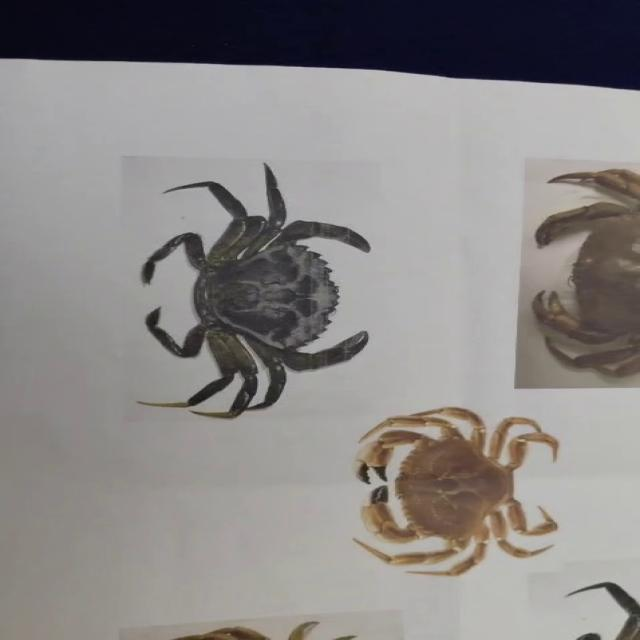egc: (139, 163, 367, 417)
